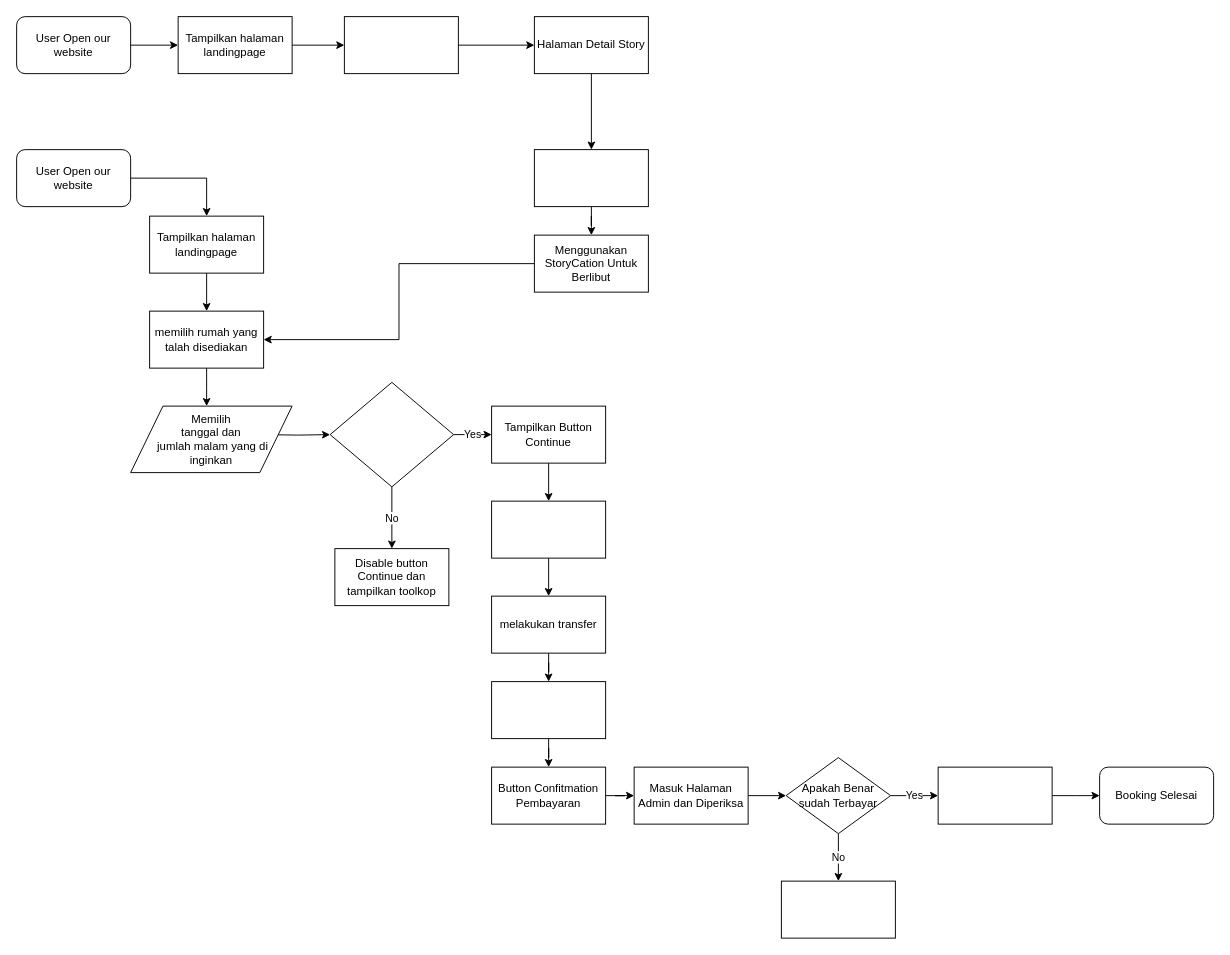
Image size: 1230x955. Some labels were removed from this diagram. The shapes that lost their labels are listed below. From the top down, each one's centre as x and y in pixels, then its label:
point (400, 45): Klik Tombol Read History
point (590, 178): Mengajak Pengguna/User Untuk membuat Story
point (391, 434): Apakah tersedia Chek database
point (548, 529): Booking Information Page
point (548, 710): Upload Bukti Transfer
point (994, 795): Berikan Information ke email pelanggan terkait Bookingnya
point (837, 909): Booking Expired
